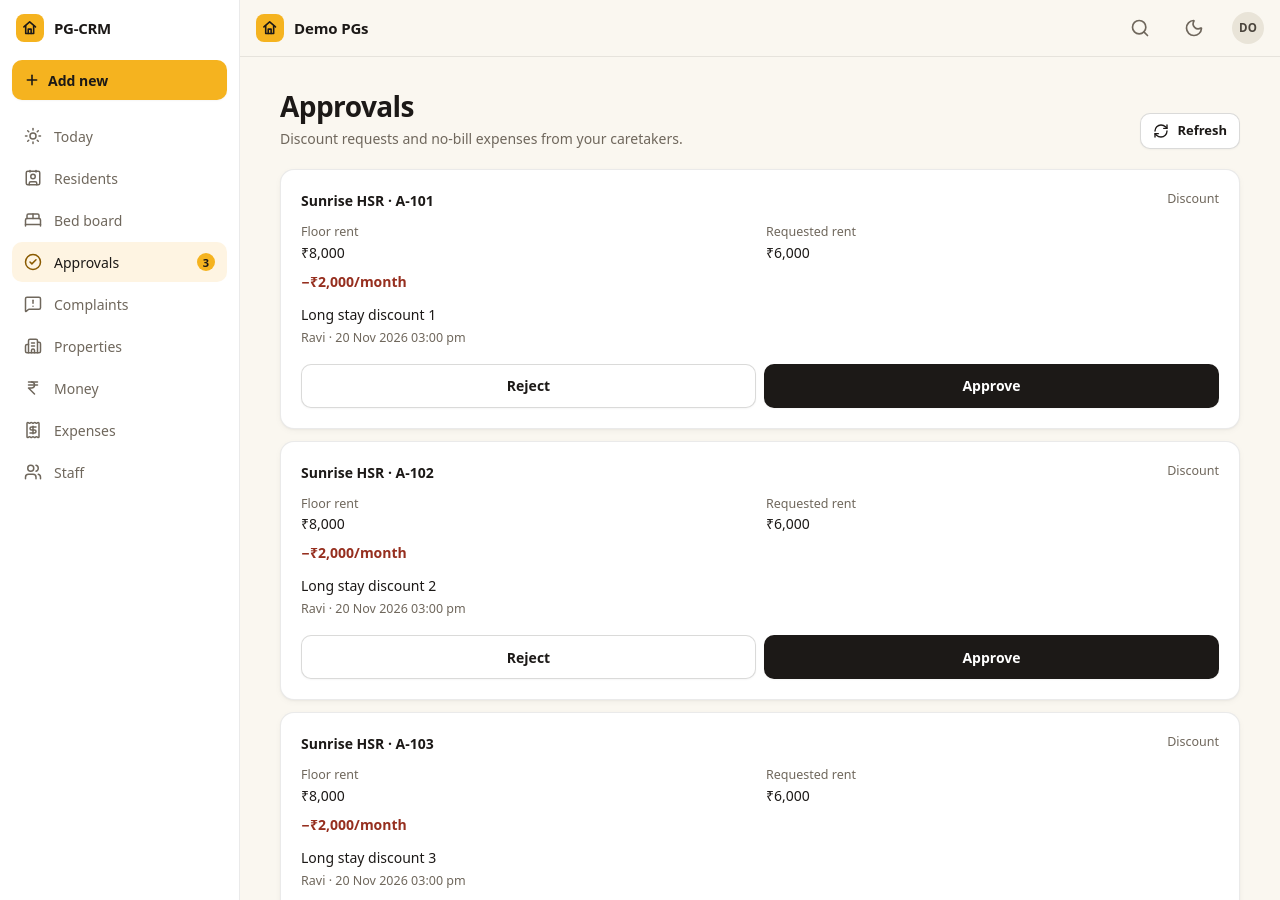
Owner approvals inbox › [FE-22/AC3] Approvals badge equals the number of pending items
Expected: the text "3" is shown, [197,253,215,271]
Expected: the text with test id "nav-badge" reads "3", [203,254,209,270]
What coordinates should you click on to do the following:
click the 1st button "Approve"
I would click on:
 (992, 386)
Its box is [764,364,1219,408].
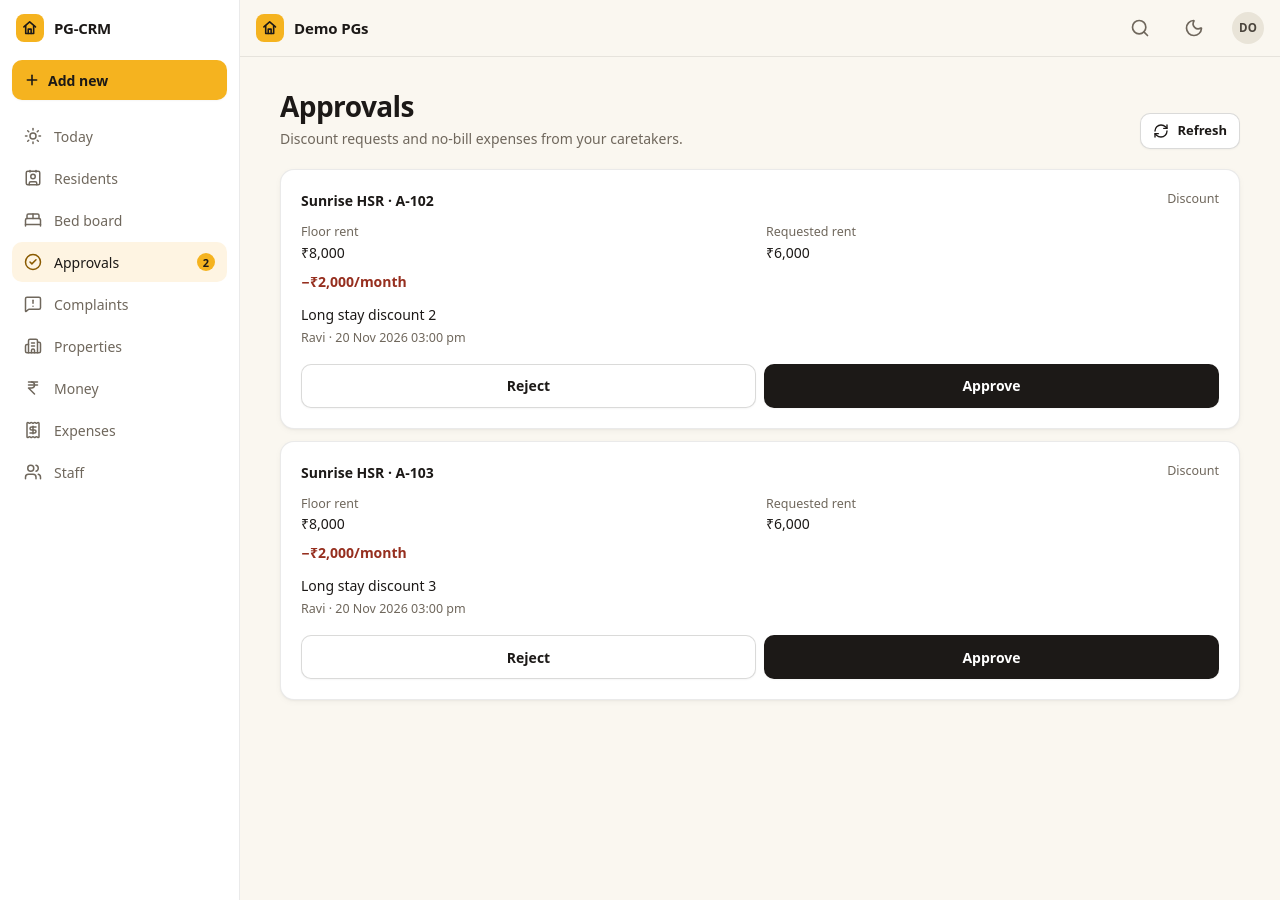
Now the text with test id "nav-badge" reads "2", box [203,254,209,270]
